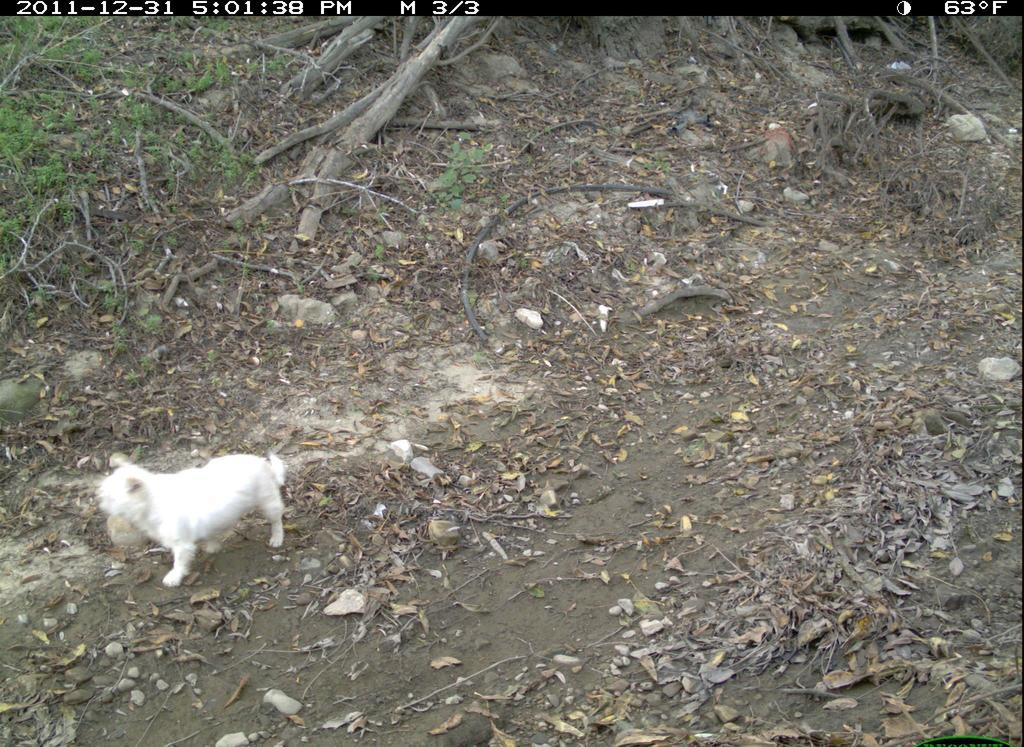dog: (81, 436, 341, 589)
